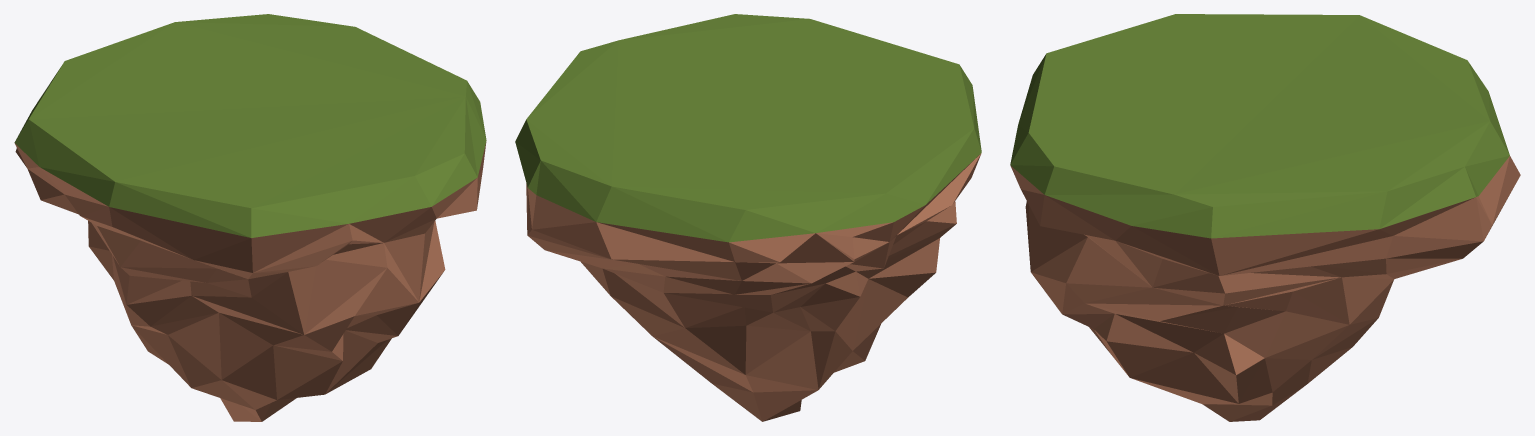
File: Island.fbx
3 views of the same model, side by side, from view 1: azimuth 30°, elevation 25°; view 2: azimuth 150°, elevation 25°; view 3: azimuth 270°, elevation 25° (orthographic). The views are drawn at different scales.
Parts seen in each view (by area): view 1: pasted__polySurface1; view 2: pasted__polySurface1; view 3: pasted__polySurface1.
Part boxes in pixels (x1,y1,x2,y2): pasted__polySurface1: (14, 14, 486, 421); pasted__polySurface1: (515, 14, 981, 421); pasted__polySurface1: (1010, 14, 1520, 421).
Size of the model in its own units: 34.26 by 24.92 by 36.08.
